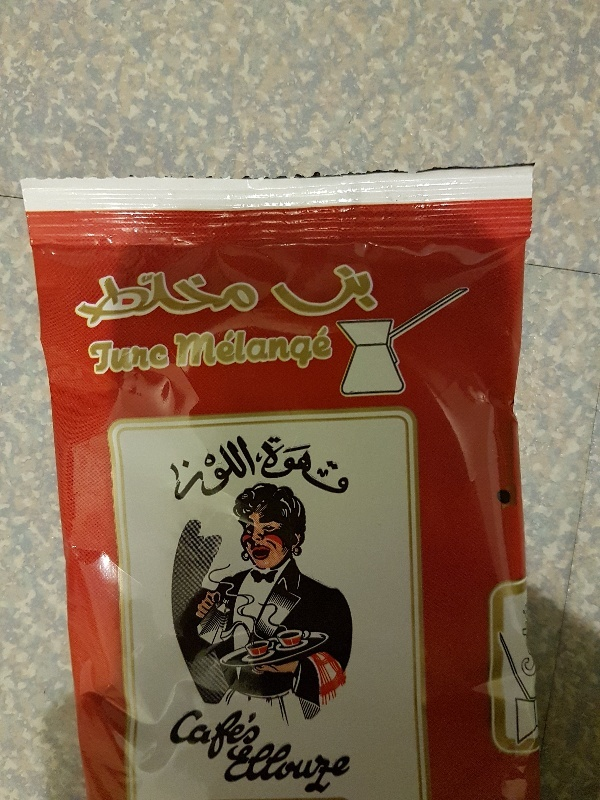text: (177, 434, 192, 507), (193, 434, 208, 507), (209, 434, 224, 507), (225, 434, 240, 507), (241, 434, 256, 507), (337, 434, 353, 497), (257, 434, 272, 497), (273, 434, 288, 497), (289, 434, 304, 497), (305, 434, 320, 497), (321, 434, 336, 497), (81, 270, 96, 329), (97, 270, 112, 329), (113, 270, 128, 329), (129, 270, 144, 329), (145, 270, 160, 329), (161, 270, 176, 329), (177, 270, 192, 329), (193, 270, 208, 329), (209, 270, 224, 329), (225, 270, 240, 329), (241, 270, 256, 329), (164, 434, 176, 507), (273, 264, 288, 321), (289, 264, 304, 321), (305, 264, 320, 321), (321, 264, 336, 321), (337, 264, 352, 321), (353, 264, 368, 321), (177, 707, 192, 764), (193, 707, 208, 764), (209, 707, 224, 764), (225, 707, 240, 764), (241, 707, 256, 764), (337, 741, 353, 794), (369, 264, 383, 321), (225, 741, 240, 794), (241, 741, 256, 794), (257, 741, 272, 794), (273, 741, 288, 794), (289, 741, 304, 794), (305, 741, 320, 794), (321, 741, 336, 794), (321, 324, 337, 373), (177, 324, 192, 373), (193, 324, 208, 373), (209, 324, 224, 373), (225, 324, 240, 373), (241, 324, 256, 373), (257, 324, 272, 373), (273, 324, 288, 373), (289, 324, 304, 373), (305, 324, 320, 373), (166, 707, 176, 764), (97, 340, 112, 376), (113, 340, 128, 376), (129, 340, 144, 376), (145, 340, 160, 376), (73, 270, 80, 329), (257, 434, 262, 507), (161, 340, 171, 376), (169, 324, 176, 373), (87, 340, 96, 376), (257, 270, 262, 329), (267, 264, 272, 321), (257, 707, 261, 764)
